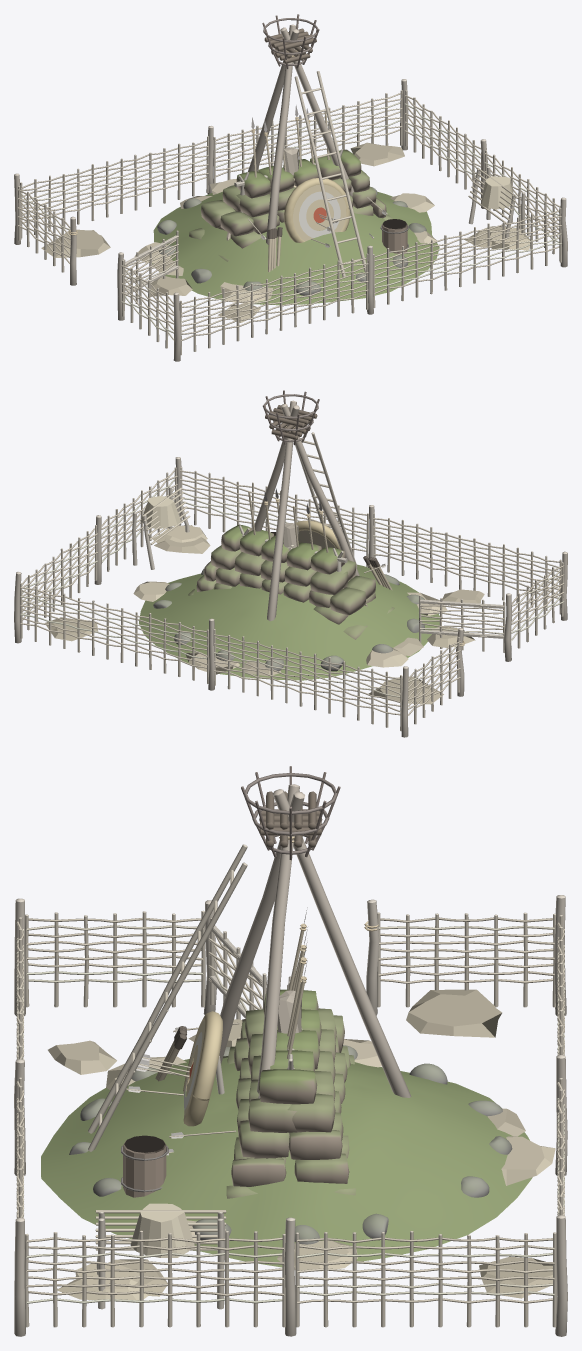
File: meadow_kit.glb
The picture shows the model from 3 angles, top to bottom: view 1: azimuth 30°, elevation 25°; view 2: azimuth 150°, elevation 25°; view 3: azimuth 270°, elevation 25°; orthographic projection. The views are drawn at different scales.
Parts seen in each view (by area): view 1: meadow_fold, beacon_tripod, drill_butt, drill_rack; view 2: meadow_fold, beacon_tripod, drill_butt, drill_rack; view 3: beacon_tripod, meadow_fold, drill_butt, drill_rack, drill_pell.
Boxes of the visible parts, box(x1,y1,x2,y2) form: meadow_fold: box(14, 79, 567, 361); beacon_tripod: box(152, 14, 439, 305); drill_butt: box(189, 149, 392, 261); drill_rack: box(226, 105, 343, 240); meadow_fold: box(14, 457, 567, 737); beacon_tripod: box(139, 390, 439, 680); drill_butt: box(188, 520, 394, 639); drill_rack: box(238, 488, 367, 606); beacon_tripod: box(41, 766, 532, 1267); meadow_fold: box(14, 895, 567, 1336); drill_butt: box(126, 989, 355, 1198); drill_rack: box(287, 907, 307, 1069); drill_pell: box(277, 990, 302, 1033).
Size of the model in its own units: 7.14 by 4.03 by 5.12.
